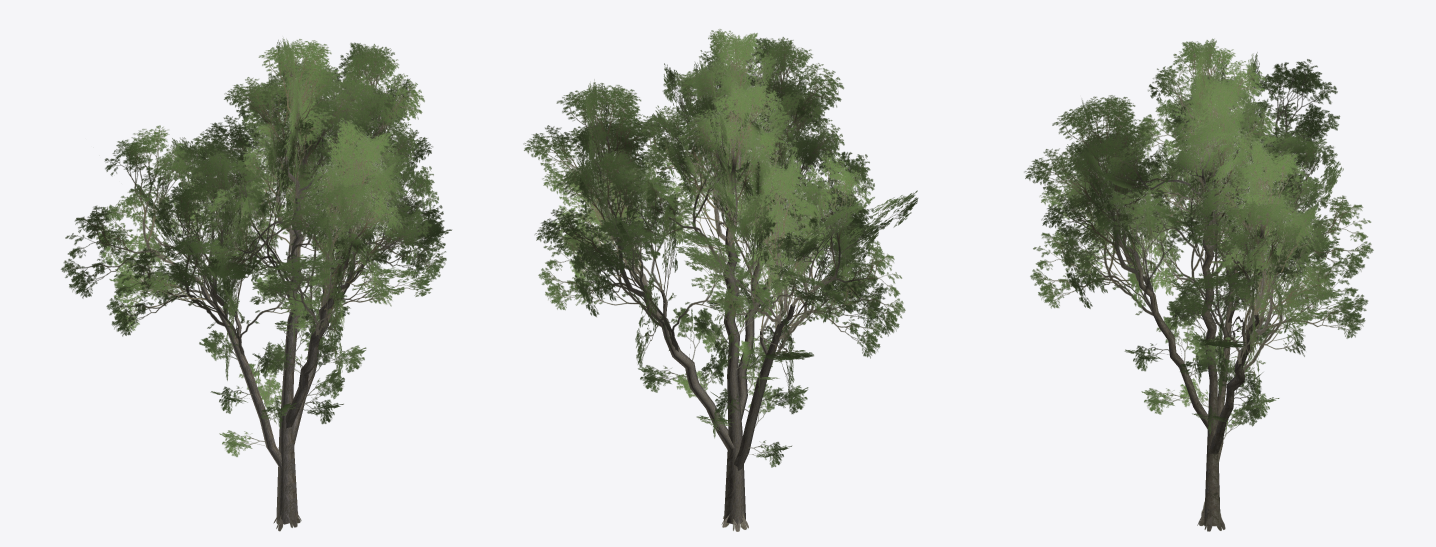
Rendered from Robinie.glb.
The picture shows the model from 3 angles, left to right: view 1: azimuth 30°, elevation 25°; view 2: azimuth 150°, elevation 25°; view 3: azimuth 270°, elevation 25°; orthographic projection.
Parts seen in each view (by area): view 1: mesh; view 2: mesh; view 3: mesh.
Part boxes in pixels (x1,y1,x2,y2): mesh: (61, 38, 451, 531); mesh: (523, 29, 918, 531); mesh: (1024, 38, 1373, 531).
Size of the model in its own units: 26.92 by 28.35 by 22.6.
Materials: 1 (1 with a texture image).
